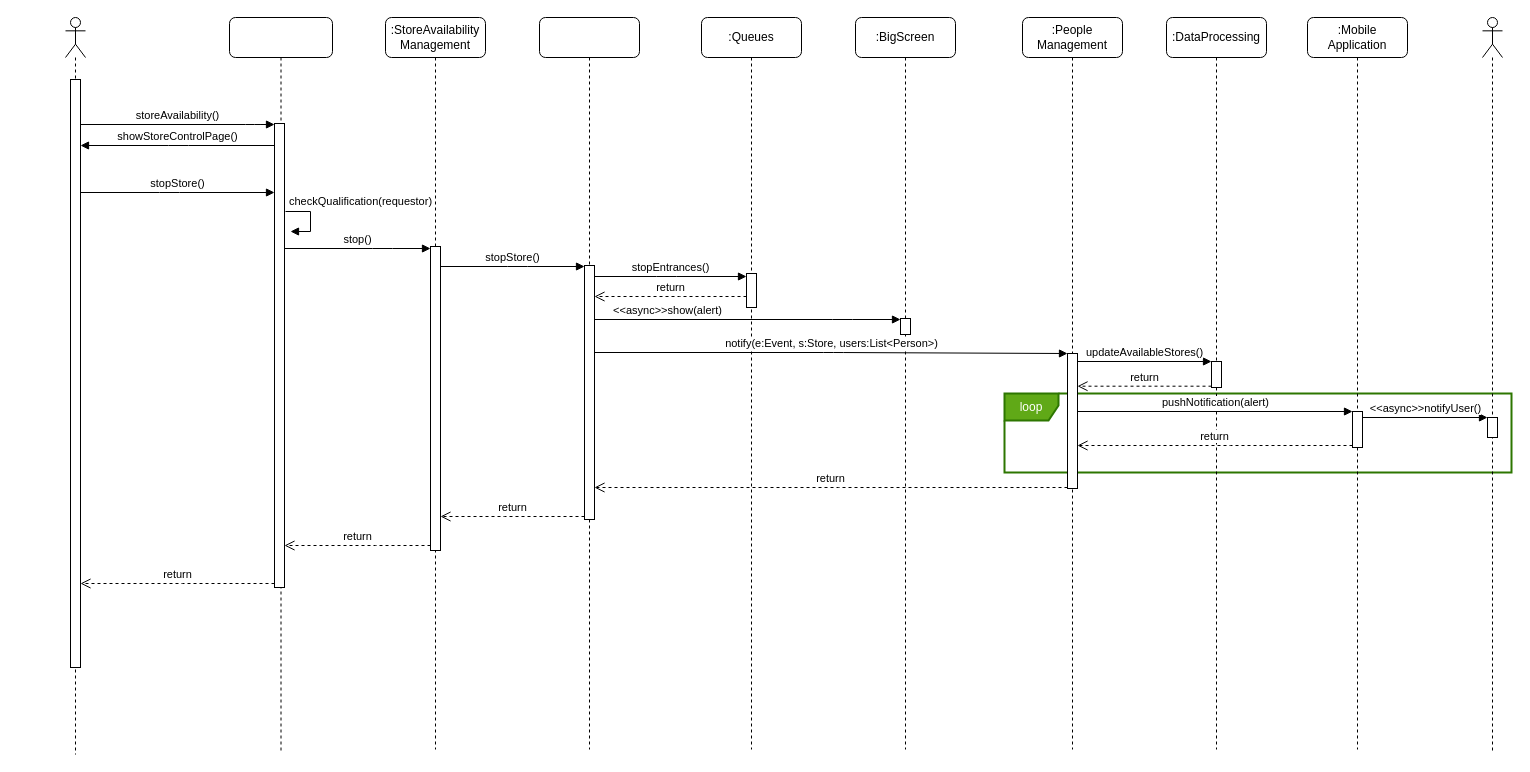
Image size: 1530x772. Some labels were removed from this diagram. The shapes that lost their labels are listed below. From the top down, each one's box as (x1, y1, x2, y2) in pixels, then its label:
(64, 16, 86, 754): QualifiedStaffMember
(228, 16, 332, 752): :WebApplication
(538, 16, 640, 750): :Notifications
(1482, 16, 1502, 752): User
